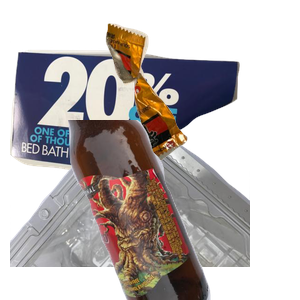glass: (65, 120, 300, 300)
paper: (10, 41, 242, 207)
plastic: (10, 120, 250, 300)
trash: (103, 21, 300, 174)
